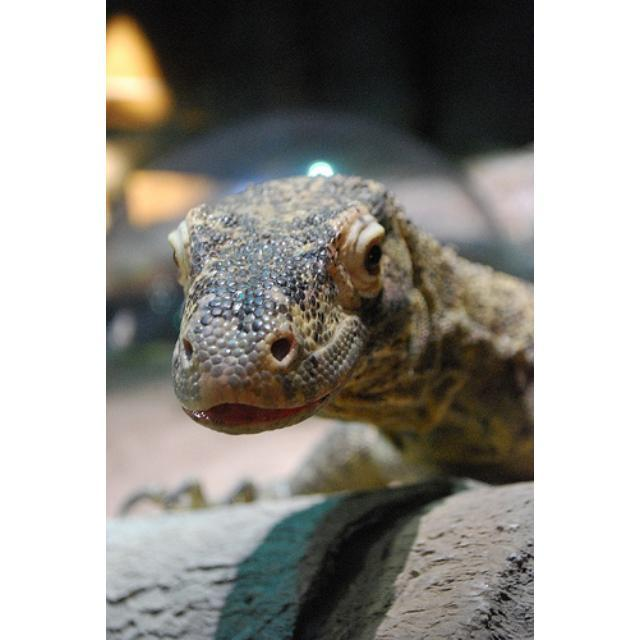KomodoDragon: (167, 175, 531, 486)
